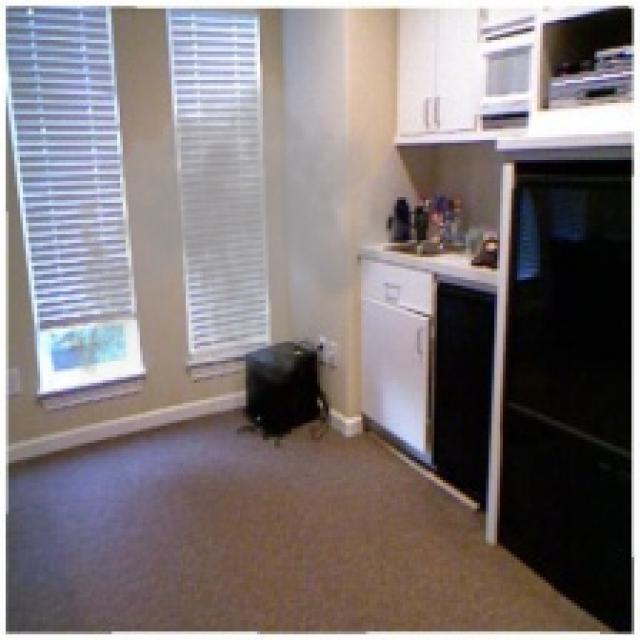smoke: (54, 60, 409, 437)
